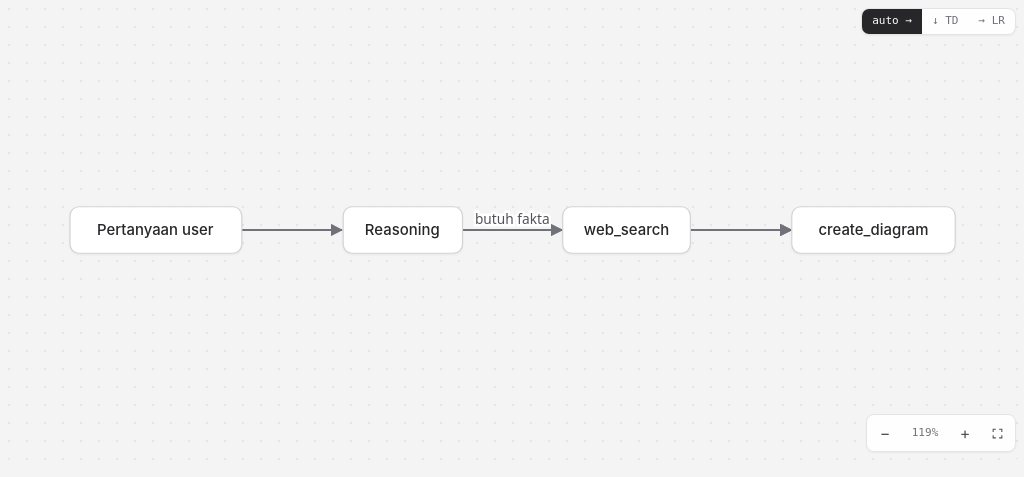
GraphView › klik latar menutup inspektur
Press the mouse on the button with test id "graph-node-B" at (402, 230), box [342,206,462,254]
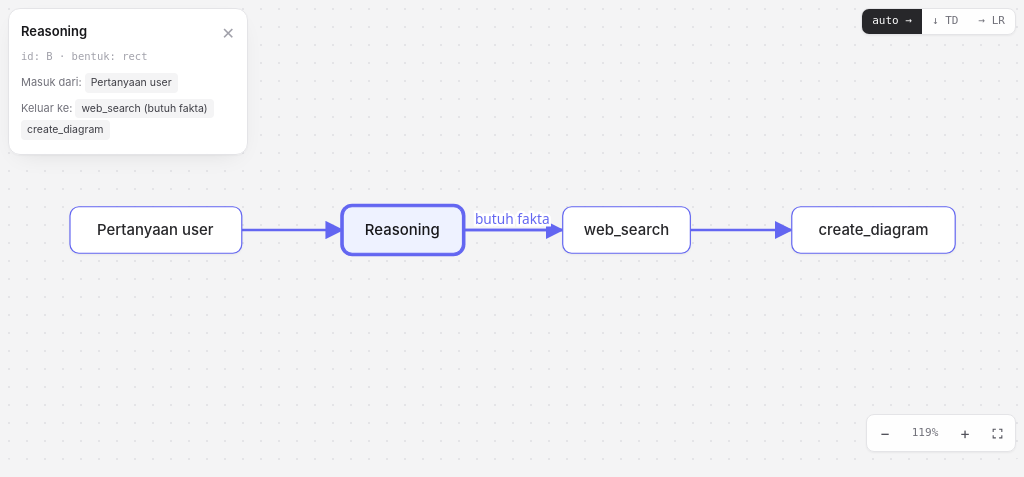
Now the element with test id "graph-inspector" is shown, box [8,8,248,155]
Press the mouse on the element with test id "graph-canvas" at (512, 230), box [0,0,1023,460]
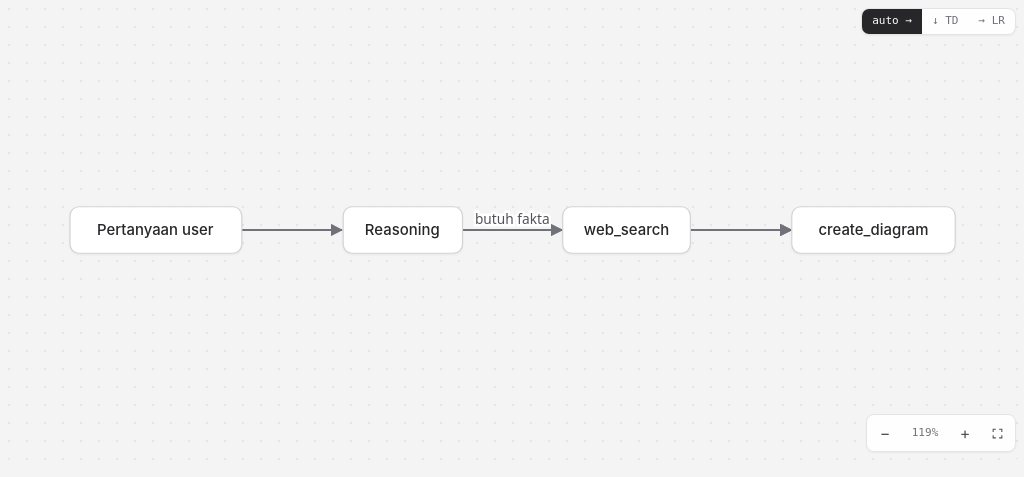
Now the element with test id "graph-inspector" is gone
